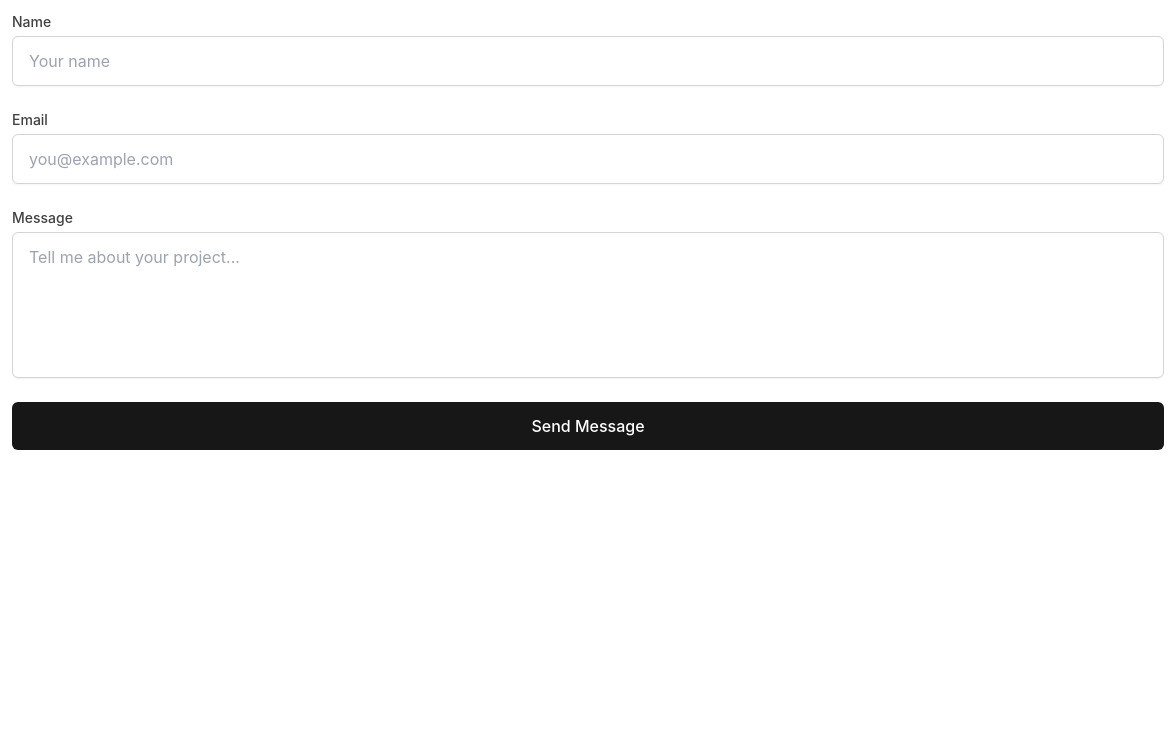
ContactForm › shows error message on submission failure
The image size is (1176, 732).
Step 1. Type "John Doe" into the field labelled "Name" → (588, 61), box [12,36,1164,86]
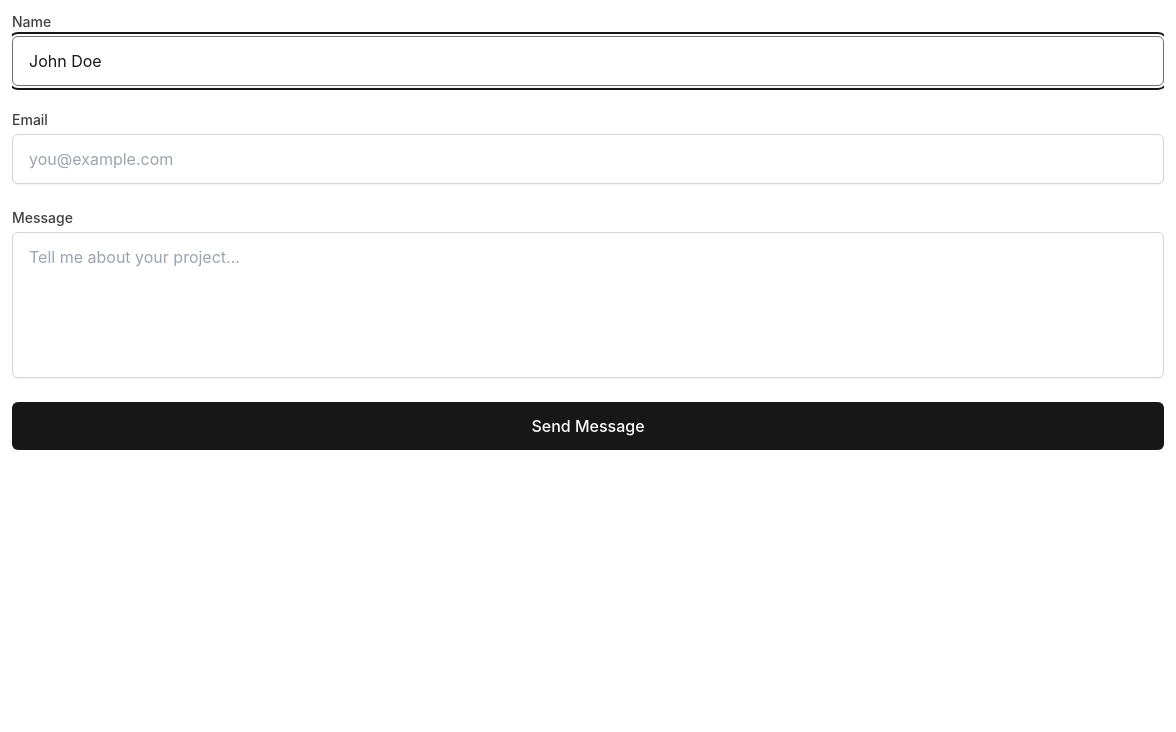
Step 2. Type "john@example.com" into the field labelled "Email" → (588, 159), box [12,134,1164,184]
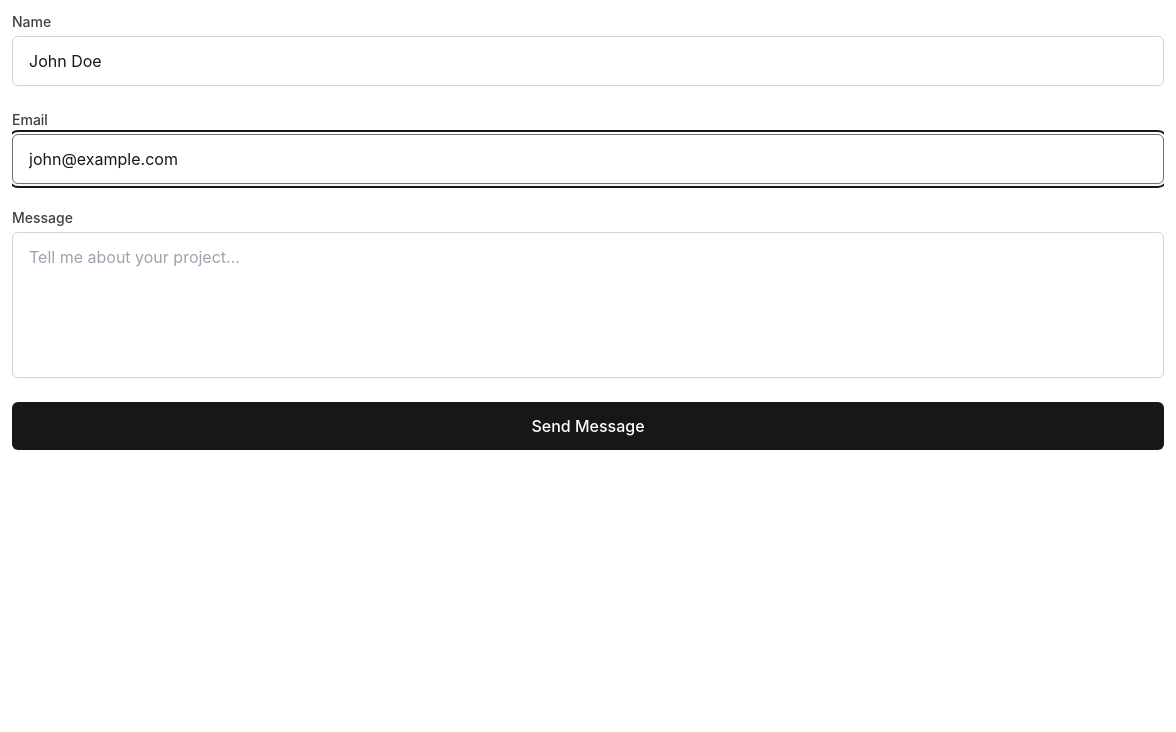
Step 3. Type "Hello, this is a test message." into the text box labelled "Message" → (588, 305), box [12,232,1164,378]
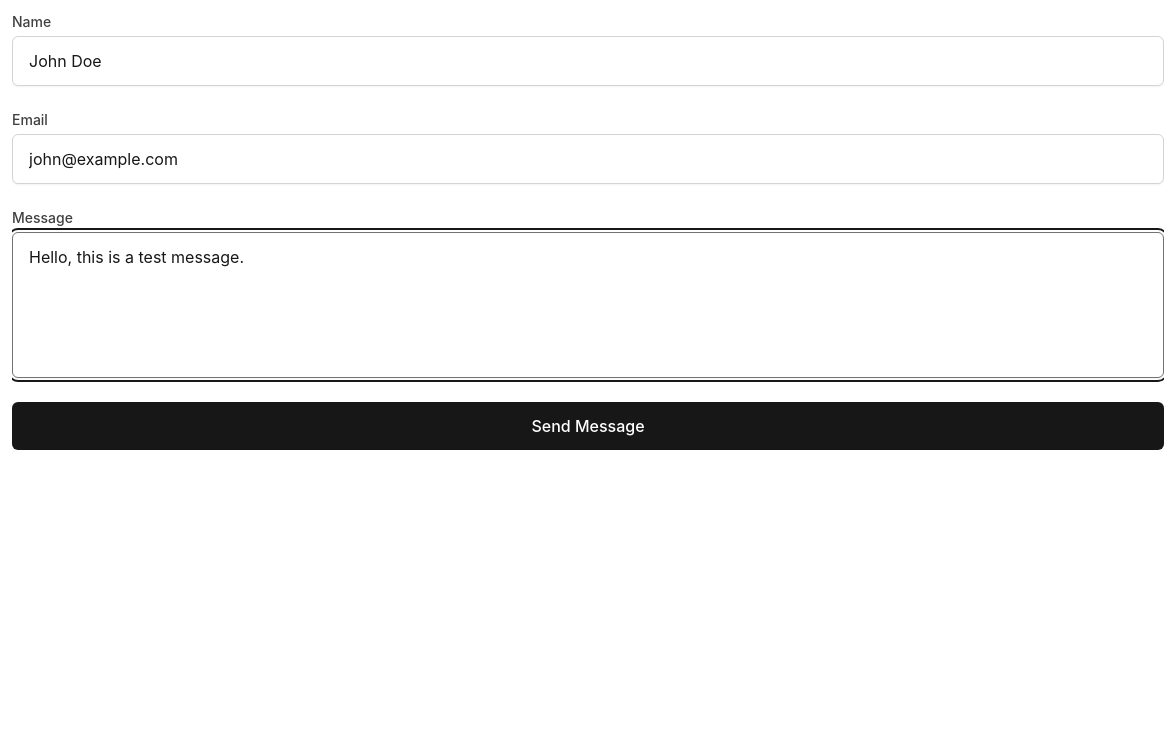
Step 4. Click the button "Send Message" → (588, 426), box [12,402,1164,450]
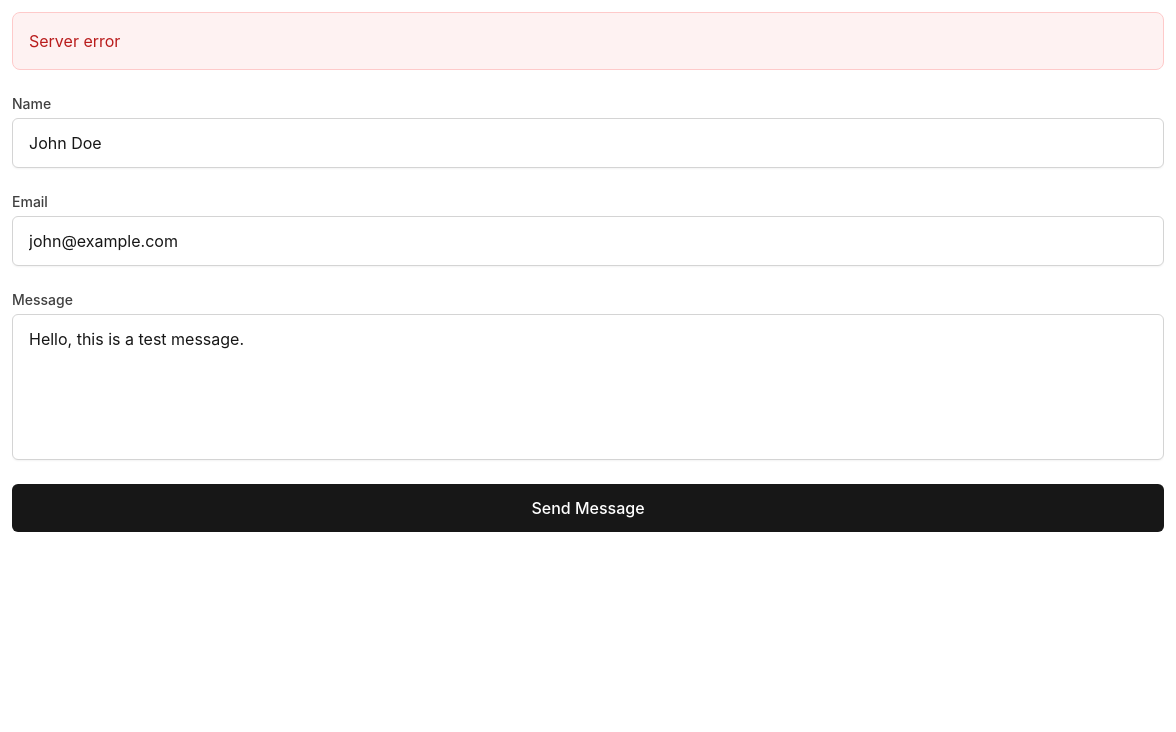
Expected: the text "Server error" is shown, [12,12,1164,70]
